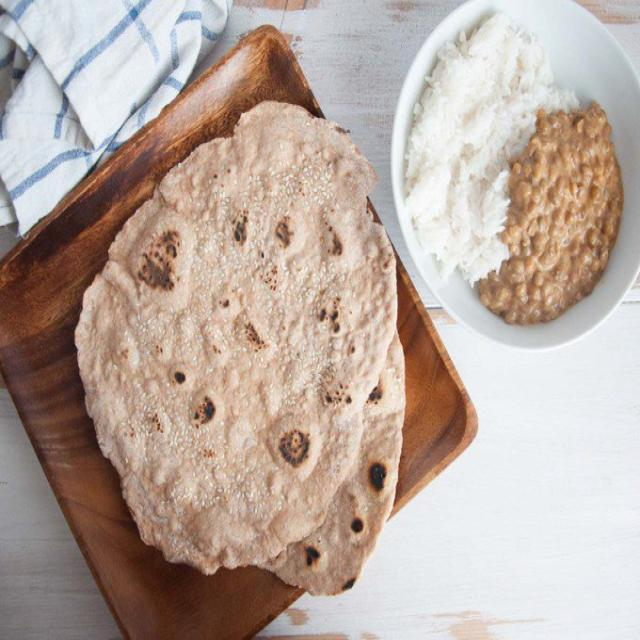CHAPATHI: (70, 104, 407, 592)
